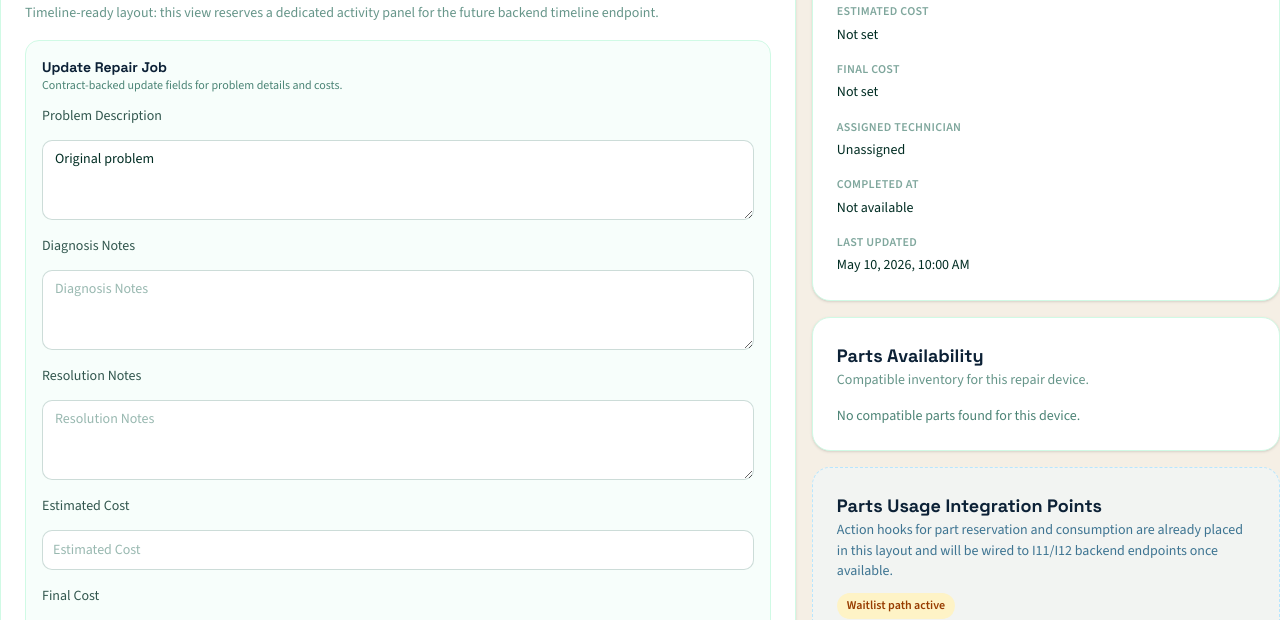
it: RepairJobDetail › shows validation error and prevents submission when data is invalid
Step 1. Replace the text in the text box with placeholder "Problem Description" with "Bad" → (398, 180), box 42,140 -> 754,220
(page scrolled)
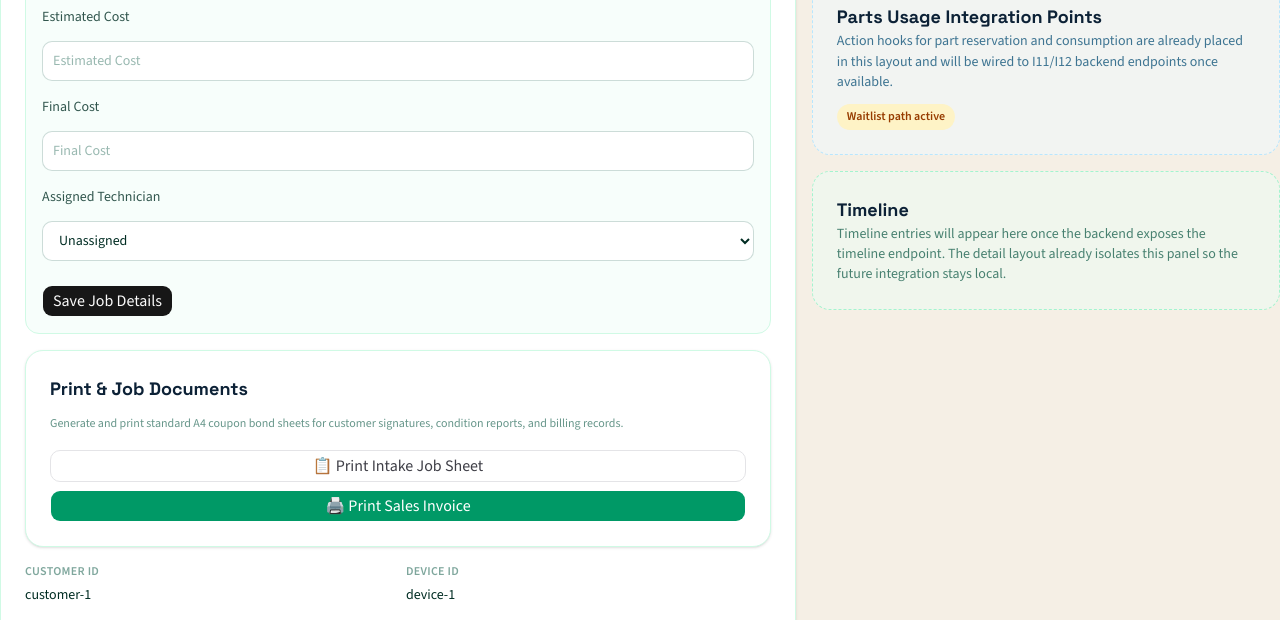
Step 2. Click the button "Save Job Details" → (108, 301), box 42,285 -> 173,317
(page scrolled)
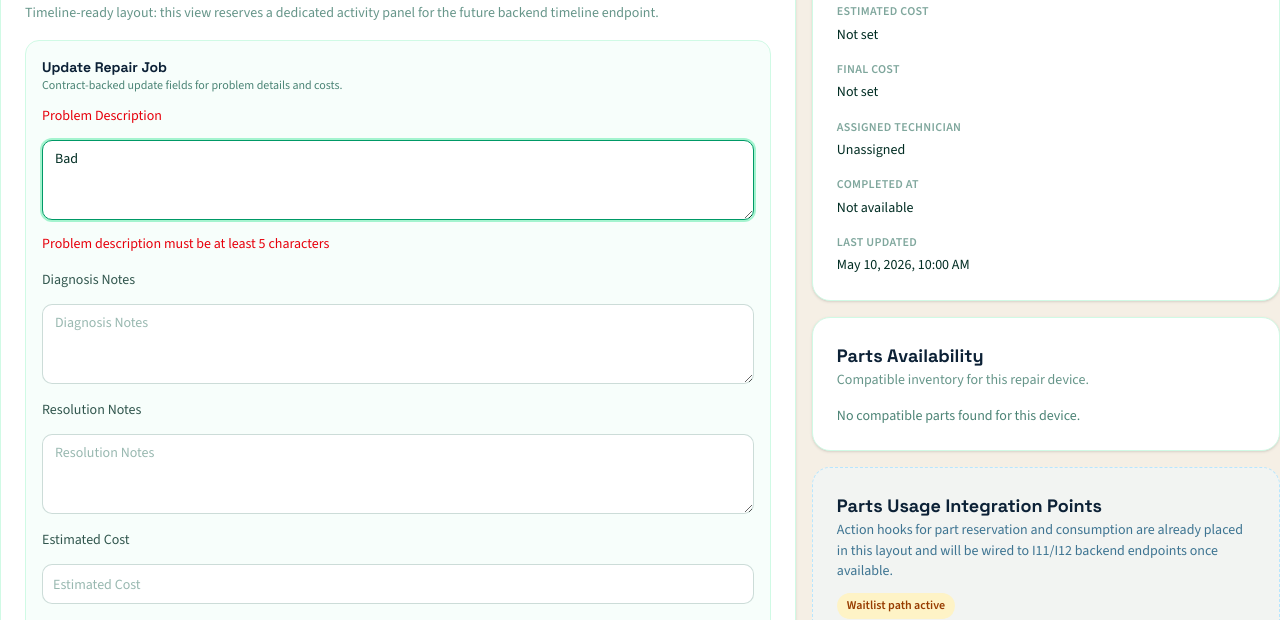
Result: the text "Problem description must be at least 5 characters" is shown at 42,234 -> 329,253
